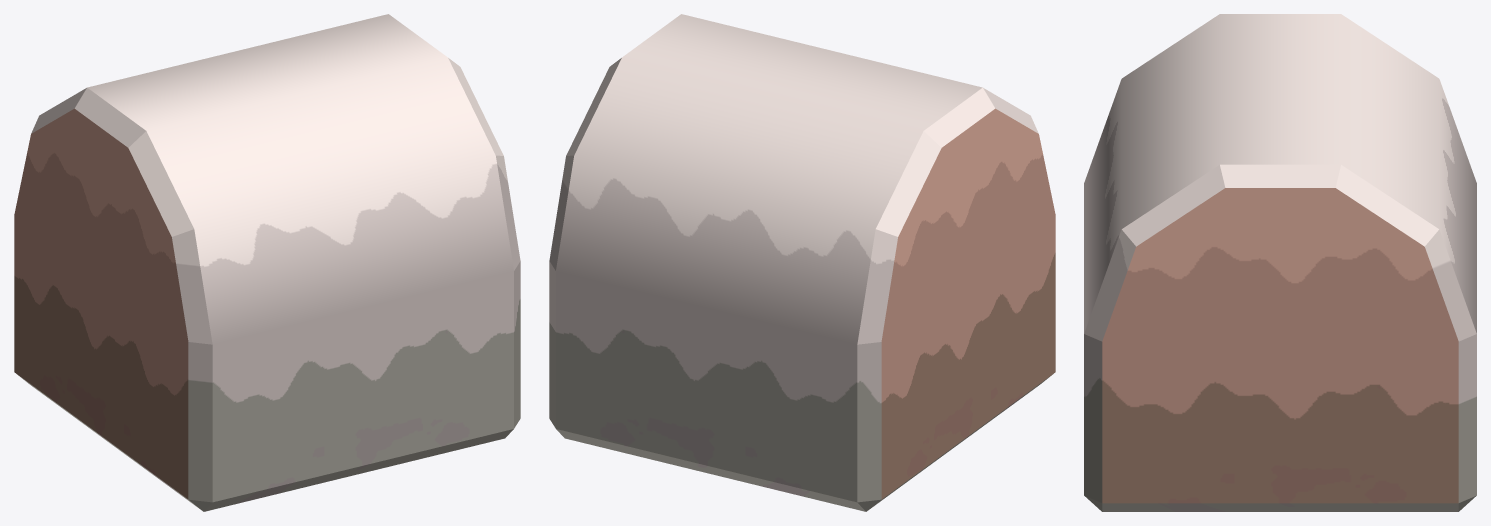
Rendered from R4B_RoundTop_LOD1.glb.
The picture shows the model from 3 angles, left to right: view 1: azimuth 30°, elevation 25°; view 2: azimuth 150°, elevation 25°; view 3: azimuth 270°, elevation 25°; orthographic projection. The views are drawn at different scales.
Parts seen in each view (by area): view 1: R4B_RoundTop_LOD1; view 2: R4B_RoundTop_LOD1; view 3: R4B_RoundTop_LOD1.
Part boxes in pixels (x1,y1,x2,y2): R4B_RoundTop_LOD1: (14,14,520,511); R4B_RoundTop_LOD1: (549,14,1055,511); R4B_RoundTop_LOD1: (1084,14,1476,511).
Bounding box in the file's own units: 0.52 × 0.5073 × 0.52.
2 materials, 2 textured.
